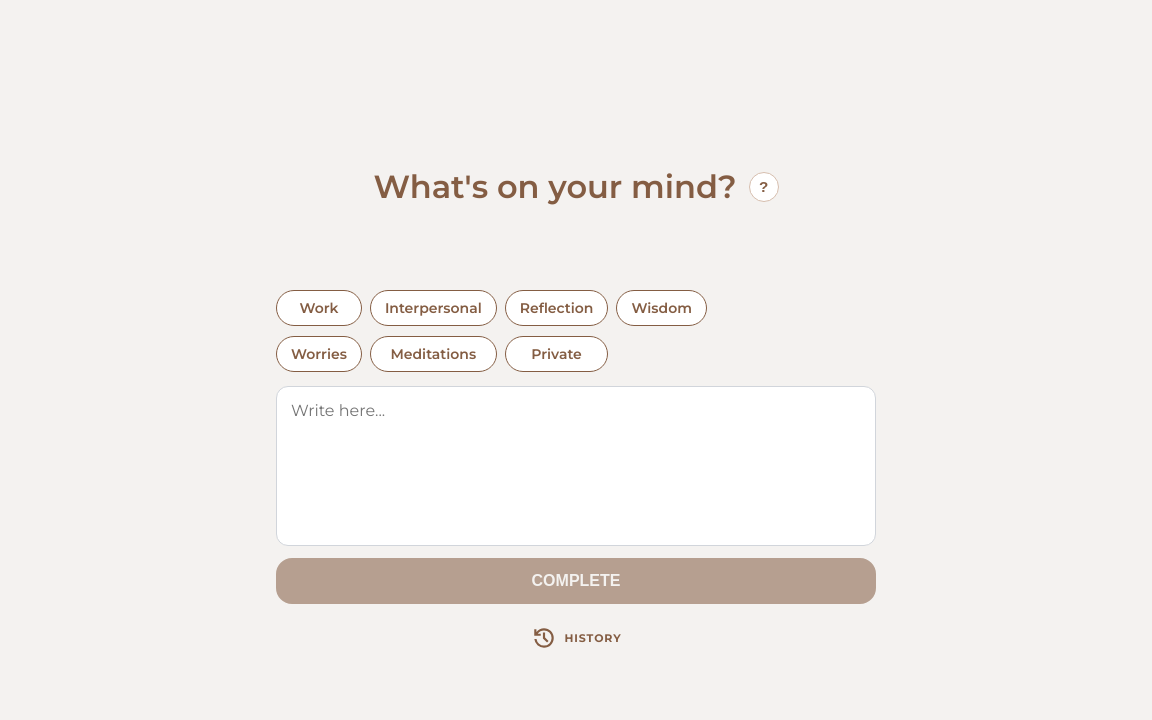
Test: Journal onboarding slideshow › the help button reopens the slideshow immediately from the first slide
The image size is (1152, 720).
Step 1. Click the button named "How the journal works" → (764, 187), box x1=749 y1=172 x2=779 y2=202
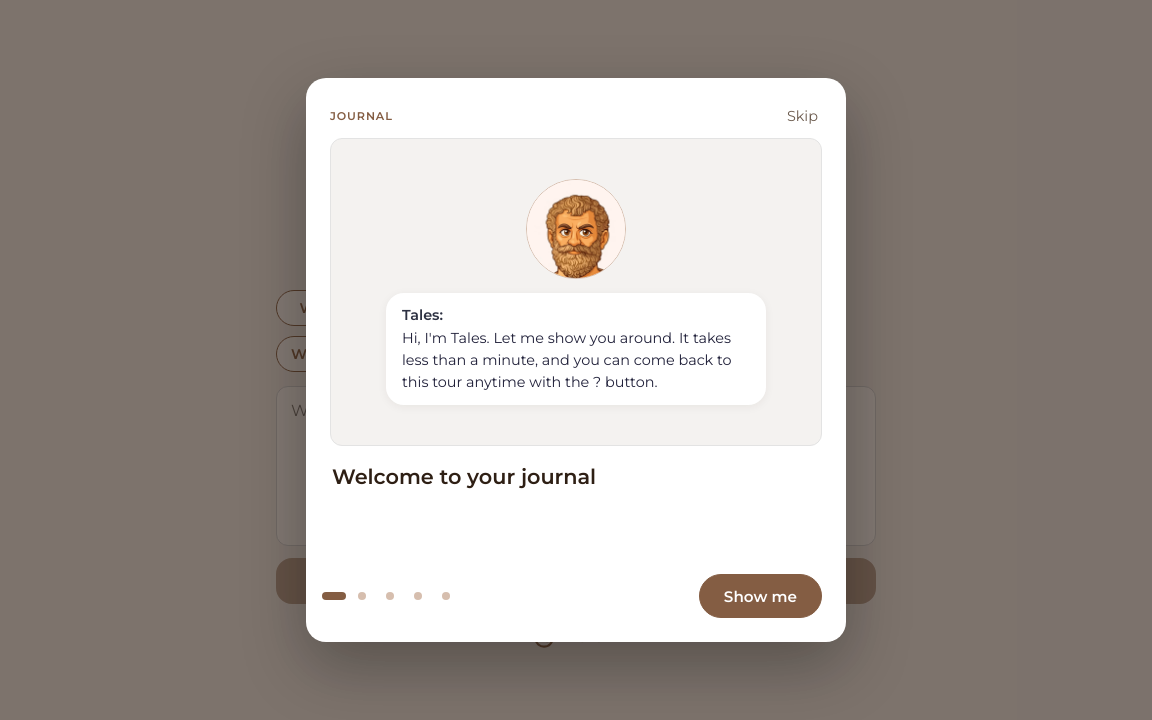
Check: the dialog named "Journal introduction" is shown, box x1=306 y1=78 x2=846 y2=642
Check: the picture named "Tales" is shown, box x1=526 y1=179 x2=626 y2=279
